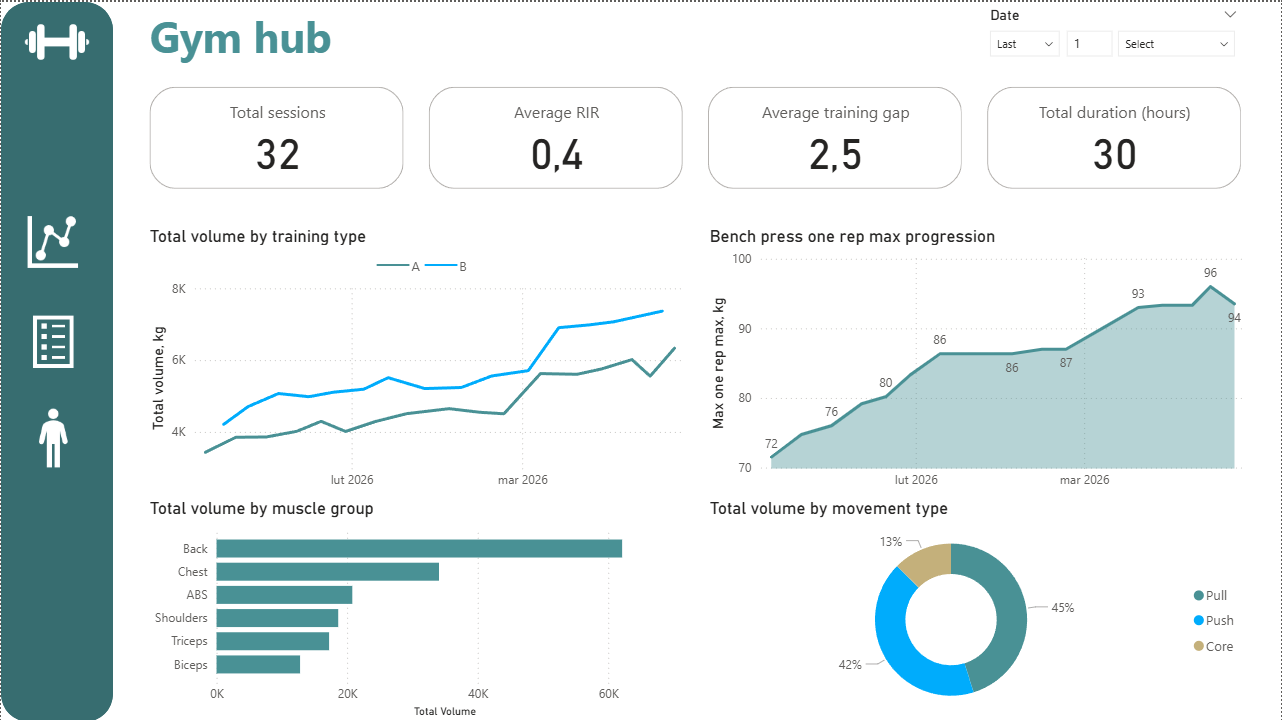

This screenshot's page, from the dashboard's own definition file:
{"tool":"powerbi","page":{"name":"Overview","canvas":[1280,720],"ordinal":0},"visuals":[{"type":"shape","box":[0,0,112,720],"z":0},{"type":"lineChart","title":"Total volume by training type","fields":{"Y":["sets_log.Total Volume"],"Category":["sessions.date"],"Series":["exercise_dict.training_type"]},"box":[144,224,560,272],"z":1000},{"type":"lineChart","title":"Bench press one rep max progression","fields":{"Category":["sessions.date.Variation.Date Hierarchy.Year"],"Y":["sets_log.Max one rm"]},"box":[704,224,560,272],"z":2000},{"type":"cardVisual","fields":{"Data":["sets_log.Total Sessions","sets_log.Average RIR","sessions.Average Training Gap","calendar.Total duration (hours)"]},"box":[144,80,1104,112],"z":3000},{"type":"textbox","box":[144,0,224,80],"z":4000},{"type":"barChart","title":"Total volume by muscle group","fields":{"Y":["sets_log.Total Volume"],"Category":["exercise_dict.muscle_group"]},"box":[144,496,544,224],"z":5000},{"type":"donutChart","title":"Total volume by movement type","fields":{"Category":["exercise_dict.movement_type"],"Y":["sets_log.Total Volume"]},"box":[704,496,544,224],"z":6000},{"type":"image","box":[0,0,112,80],"z":7000},{"type":"slicer","fields":{"Values":["sessions.date"]},"box":[976,0,272,64],"z":8000},{"type":"image","box":[8,200,88,80],"z":9000},{"type":"image","box":[16,304,72,72],"z":10000},{"type":"image","box":[16,400,72,72],"z":11000}]}

Visuals, with their boxes on the page's 1280x720 design canvas (x1, y1, x2, y2). These are canvas units, not pixel positions in the 1282x720 screenshot, which may show the page scaled, cropped or inside an application window:
shape: (0, 0, 112, 720)
"Total volume by training type" lineChart: (144, 224, 704, 496)
"Bench press one rep max progression" lineChart: (704, 224, 1264, 496)
cardVisual - sets_log.Total Sessions x sets_log.Average RIR: (144, 80, 1248, 192)
textbox: (144, 0, 368, 80)
"Total volume by muscle group" barChart: (144, 496, 688, 720)
"Total volume by movement type" donutChart: (704, 496, 1248, 720)
image: (0, 0, 112, 80)
slicer - sessions.date: (976, 0, 1248, 64)
image: (8, 200, 96, 280)
image: (16, 304, 88, 376)
image: (16, 400, 88, 472)
